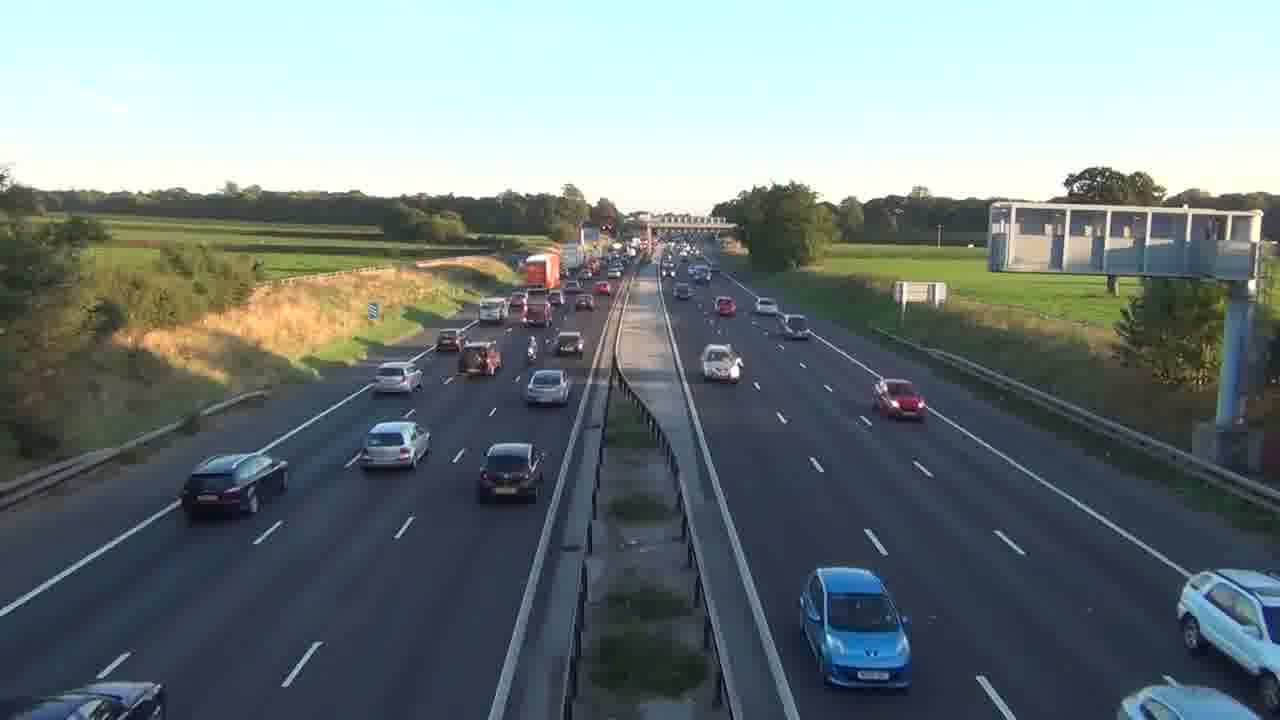car: (798, 565, 913, 691), (1176, 566, 1280, 694), (0, 681, 167, 720), (1116, 683, 1264, 720), (477, 440, 548, 504), (362, 420, 432, 470), (875, 378, 929, 422), (699, 343, 743, 383), (524, 368, 569, 406)
truck: (180, 450, 289, 521)
